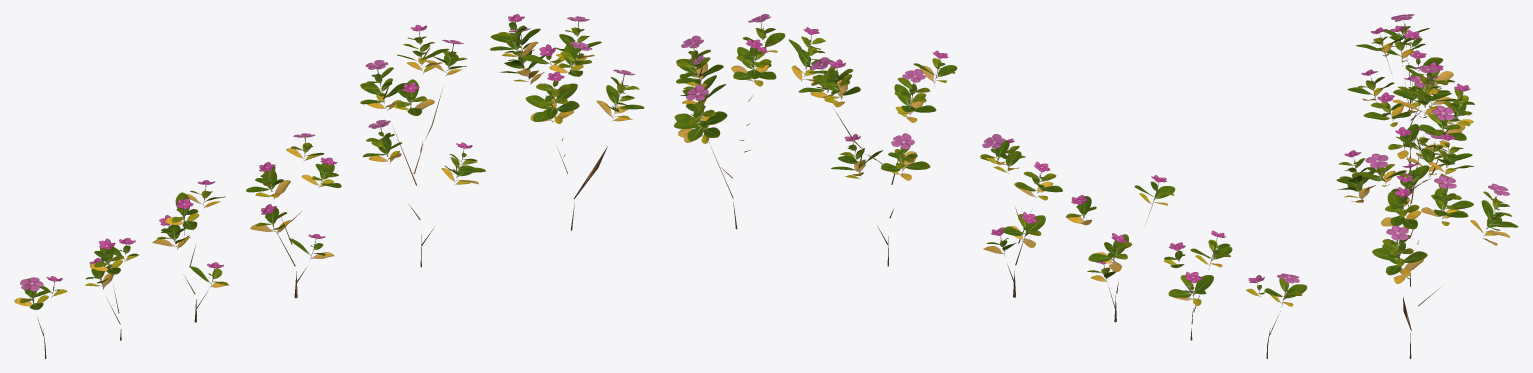
The model's file is periwinkle_plant.glb.
The picture shows the model from 3 angles, left to right: view 1: azimuth 30°, elevation 25°; view 2: azimuth 150°, elevation 25°; view 3: azimuth 270°, elevation 25°; orthographic projection. The views are drawn at different scales.
Visible parts, largest first — view 1: periwinkle_plant_01_LOD0, periwinkle_plant_02_LOD0, periwinkle_plant_03_LOD0, periwinkle_plant_04_LOD0, periwinkle_plant_05_LOD0, periwinkle_plant_06_LOD0; view 2: periwinkle_plant_01_LOD0, periwinkle_plant_02_LOD0, periwinkle_plant_03_LOD0, periwinkle_plant_04_LOD0, periwinkle_plant_05_LOD0, periwinkle_plant_06_LOD0; view 3: periwinkle_plant_01_LOD0, periwinkle_plant_02_LOD0, periwinkle_plant_03_LOD0, periwinkle_plant_04_LOD0, periwinkle_plant_05_LOD0, periwinkle_plant_06_LOD0.
Boxes of the visible parts, <box> form: periwinkle_plant_01_LOD0: <box>490,14,644,230</box>; periwinkle_plant_02_LOD0: <box>360,25,485,267</box>; periwinkle_plant_03_LOD0: <box>246,133,341,298</box>; periwinkle_plant_04_LOD0: <box>152,180,229,322</box>; periwinkle_plant_05_LOD0: <box>85,238,138,340</box>; periwinkle_plant_06_LOD0: <box>14,276,67,358</box>; periwinkle_plant_01_LOD0: <box>674,14,833,229</box>; periwinkle_plant_02_LOD0: <box>798,50,957,266</box>; periwinkle_plant_03_LOD0: <box>980,134,1062,297</box>; periwinkle_plant_04_LOD0: <box>1066,175,1175,322</box>; periwinkle_plant_05_LOD0: <box>1164,230,1232,340</box>; periwinkle_plant_06_LOD0: <box>1246,273,1307,358</box>; periwinkle_plant_01_LOD0: <box>1336,133,1518,358</box>; periwinkle_plant_02_LOD0: <box>1347,65,1474,286</box>; periwinkle_plant_03_LOD0: <box>1363,75,1440,212</box>; periwinkle_plant_04_LOD0: <box>1356,27,1455,171</box>; periwinkle_plant_05_LOD0: <box>1377,25,1454,125</box>; periwinkle_plant_06_LOD0: <box>1383,14,1429,103</box>.
Size of the model in its own units: 1.24 by 0.4107 by 0.3208.
Materials: 1 (1 with a texture image).
